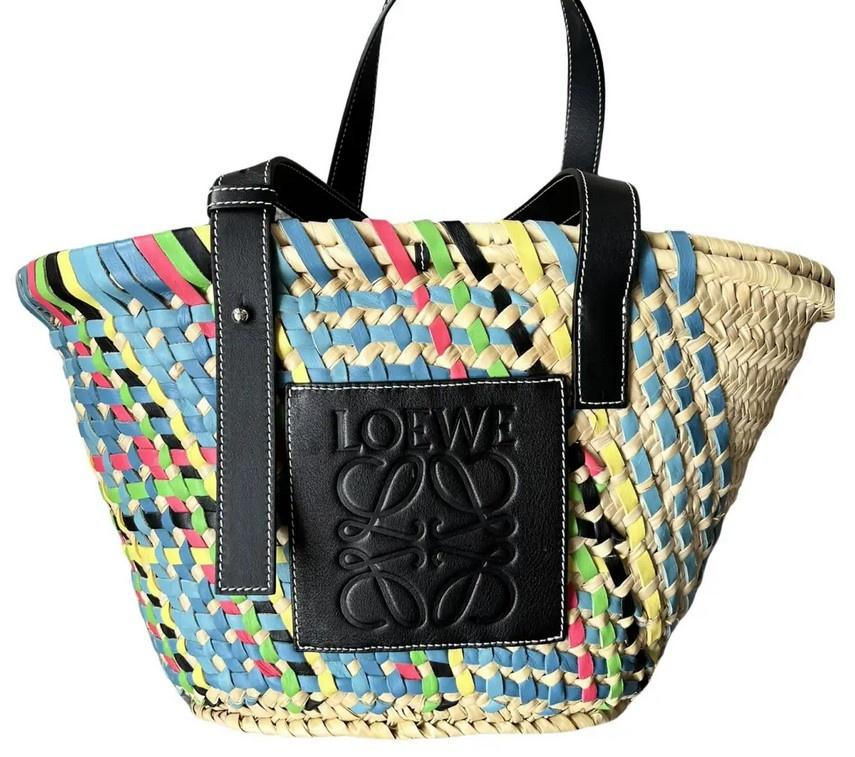LOEWE: (316, 446, 543, 641)
